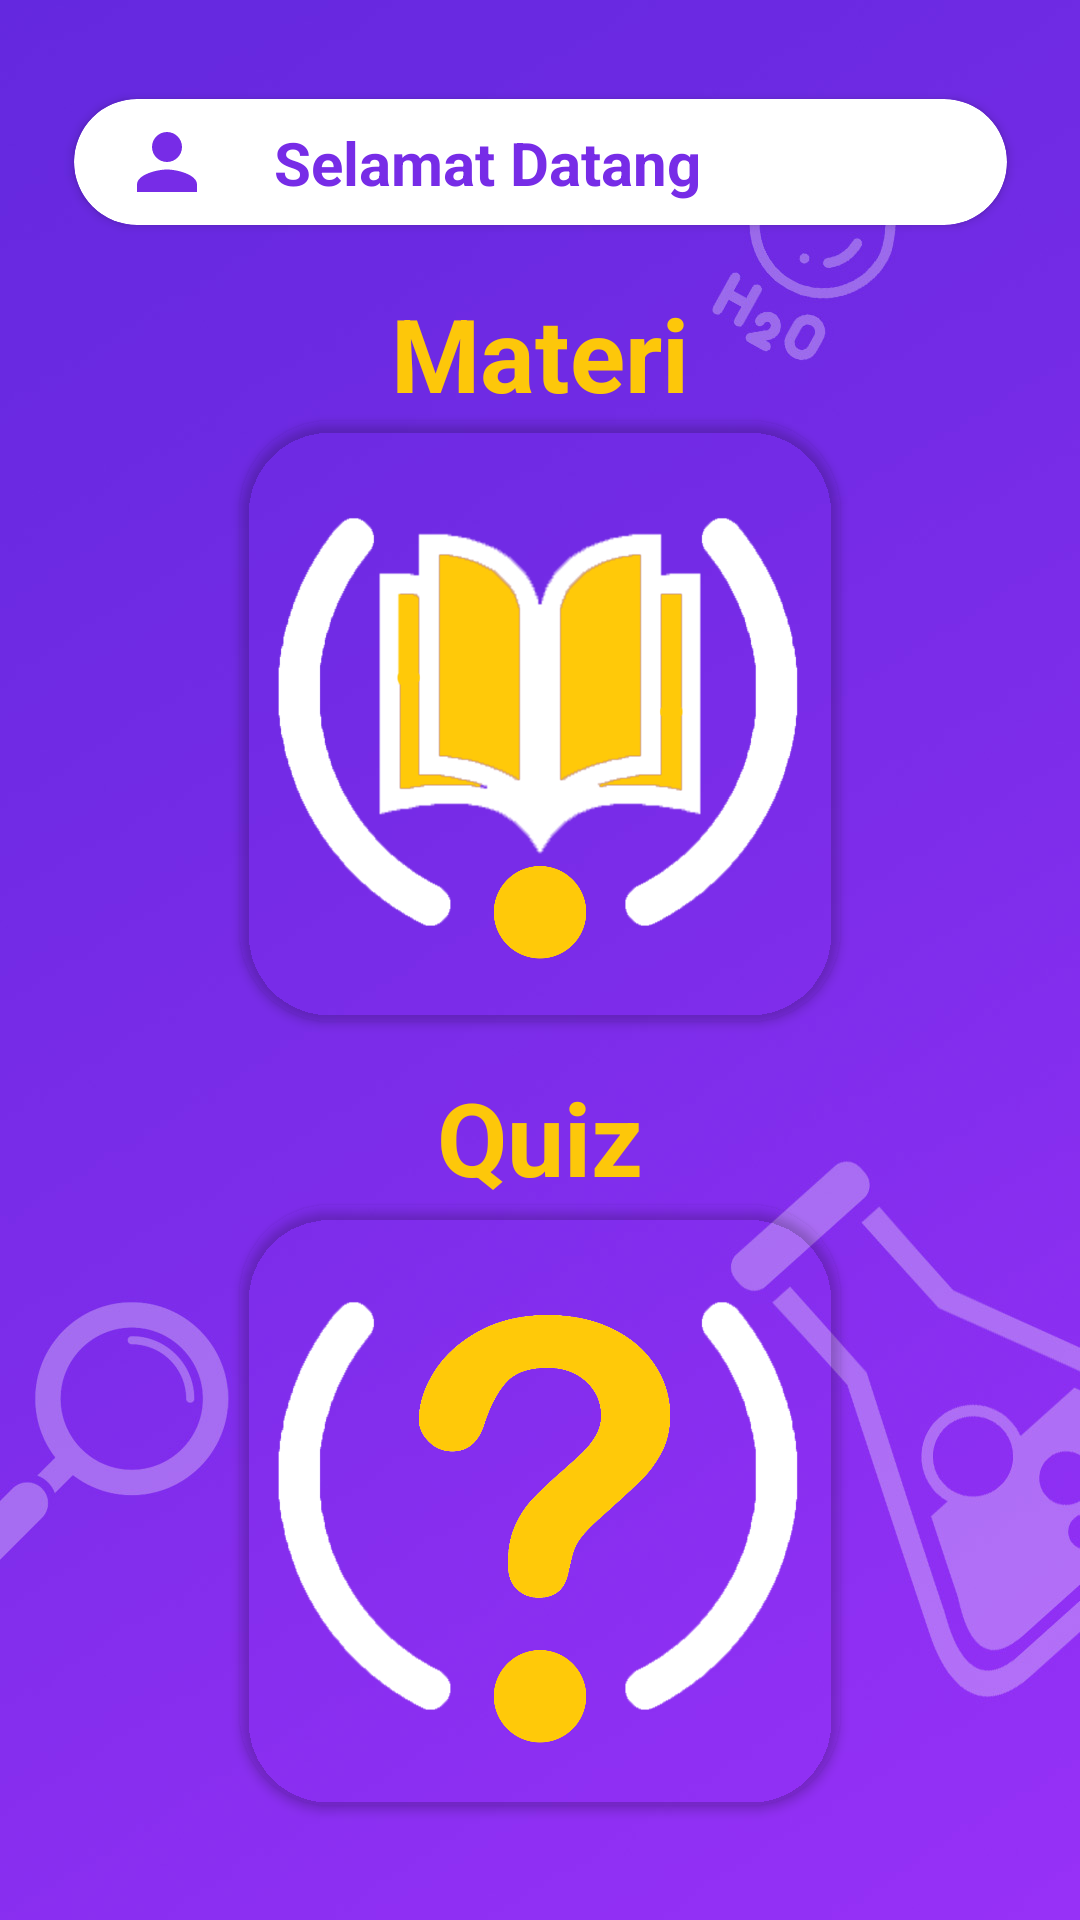

Locate icon controls on the screen. Image size 1080x1920, boxes as (x1, y1, x2, y2).
person: (137, 132, 197, 192)
